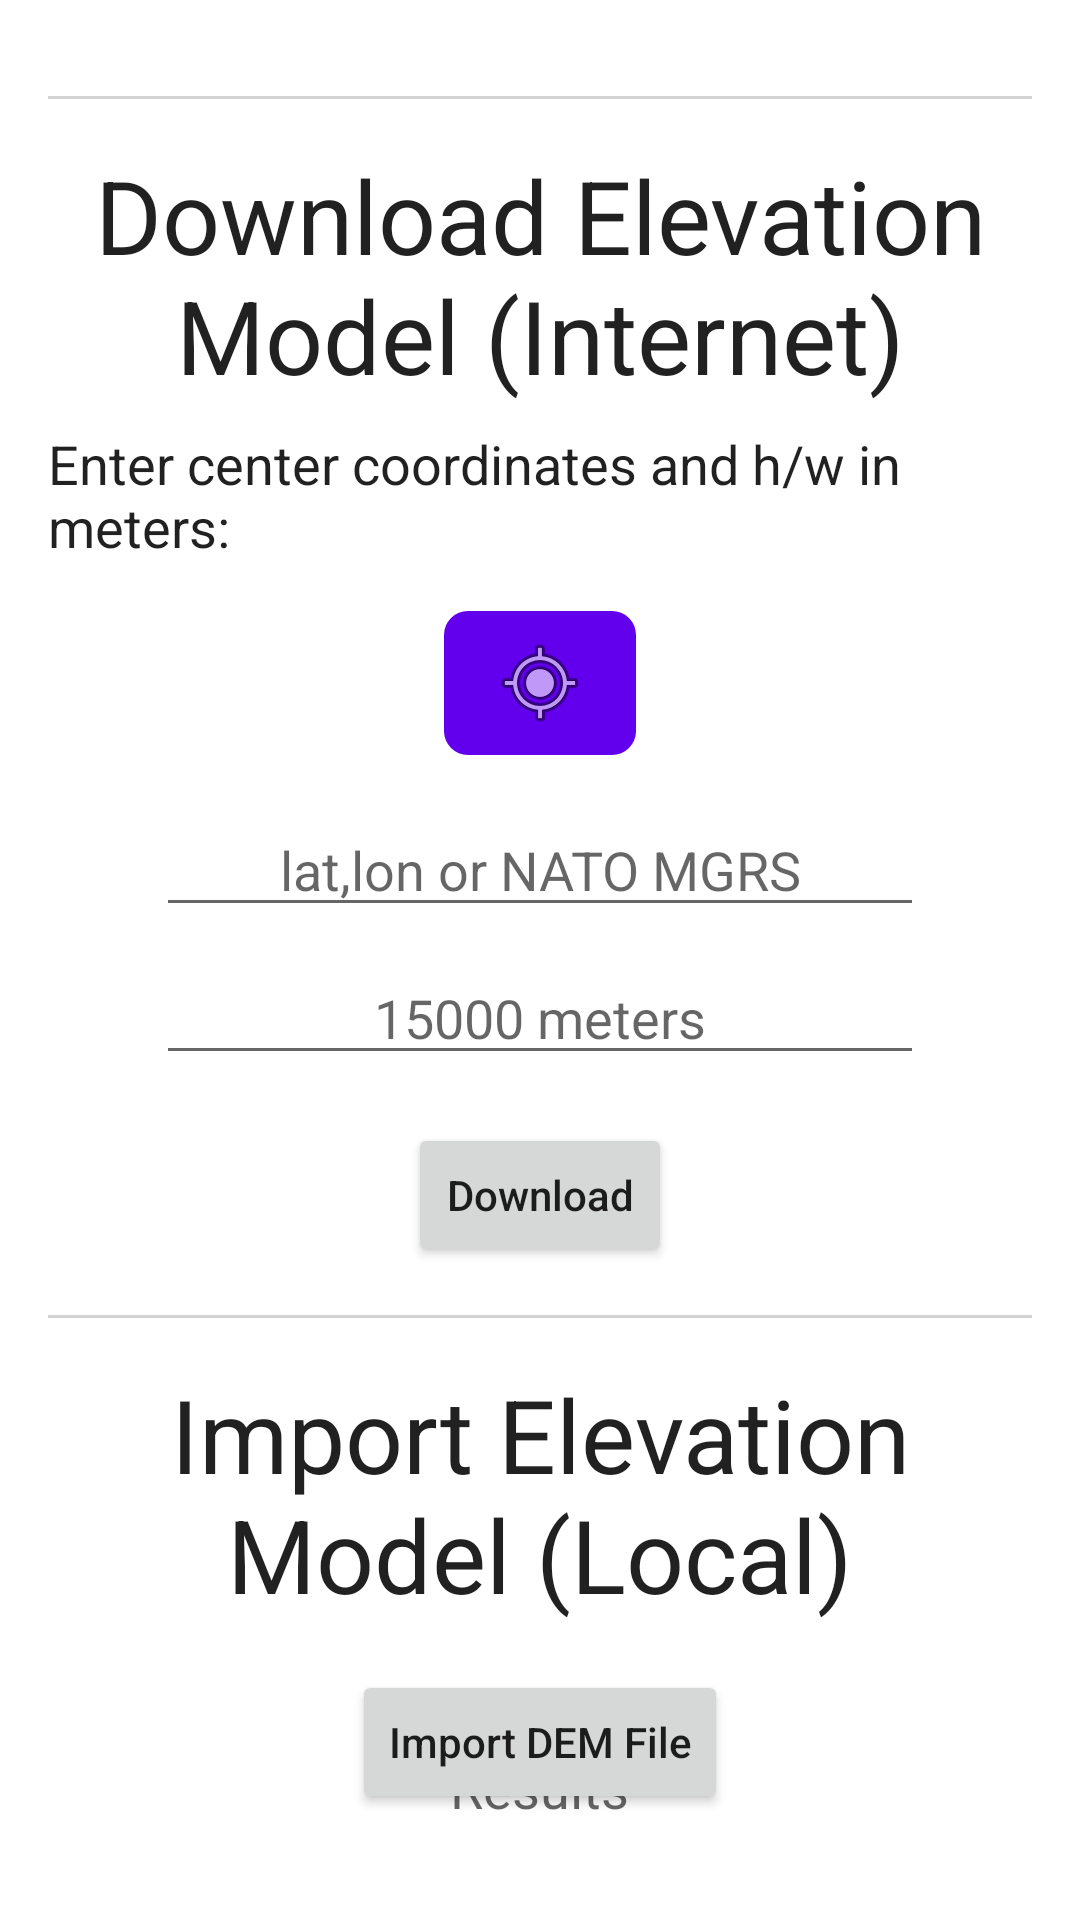

Screen size 1080px×1920px. Icon name, then its box in pixels as (x1=x1, y1=y1, x2=x2, y2=y2):
mylocation: (x1=444, y1=611, x2=636, y2=755)
